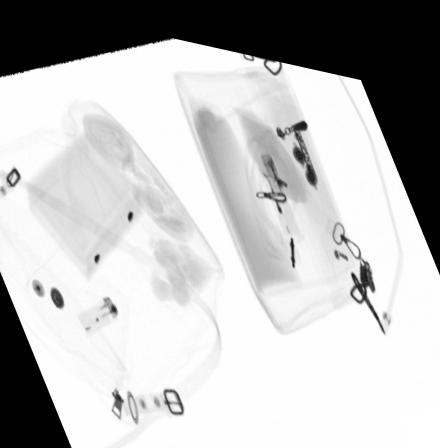Lighter: (255, 142, 300, 224), (78, 291, 119, 334)
